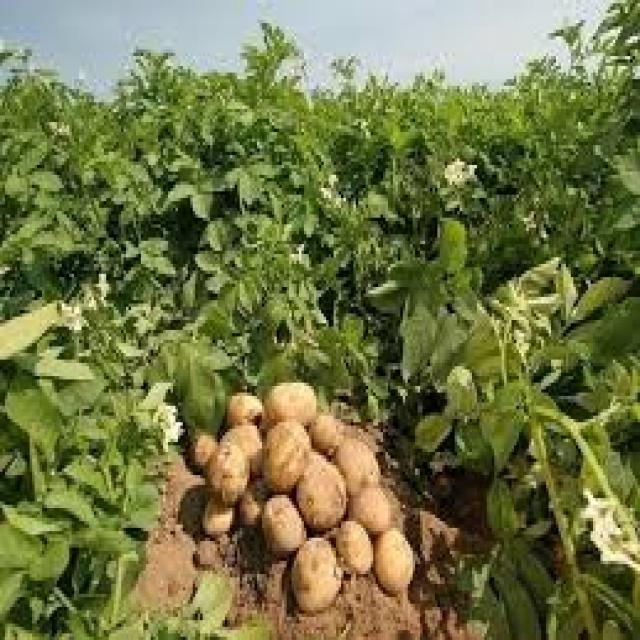Potato: (198, 416, 256, 511), (254, 358, 324, 434)
